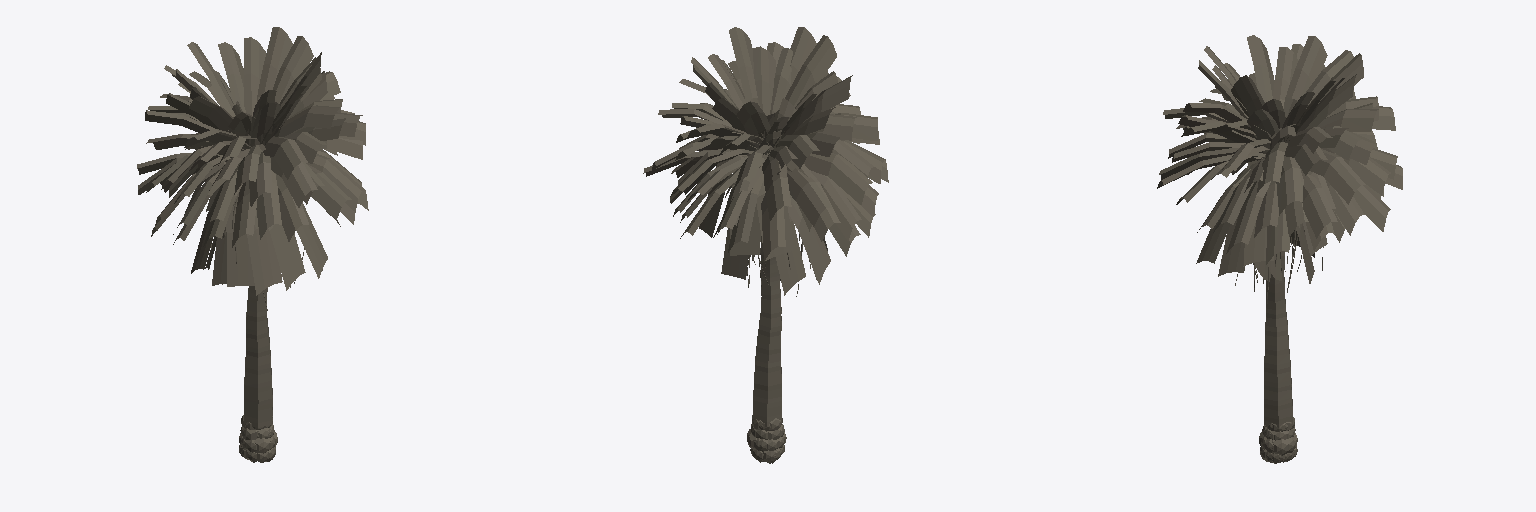
Rendered from palm.obj.
3 renders of one model, left to right at view 1: azimuth 30°, elevation 25°; view 2: azimuth 150°, elevation 25°; view 3: azimuth 270°, elevation 25°, orthographic.
Visible parts, largest first — view 1: Date_Palm; view 2: Date_Palm; view 3: Date_Palm.
Boxes of the visible parts, x1,y1,x2,y2 form: Date_Palm: [137, 27, 368, 462]; Date_Palm: [643, 27, 888, 463]; Date_Palm: [1157, 35, 1402, 463].
Bounding box in the file's own units: 8.68 × 16.47 × 8.99.